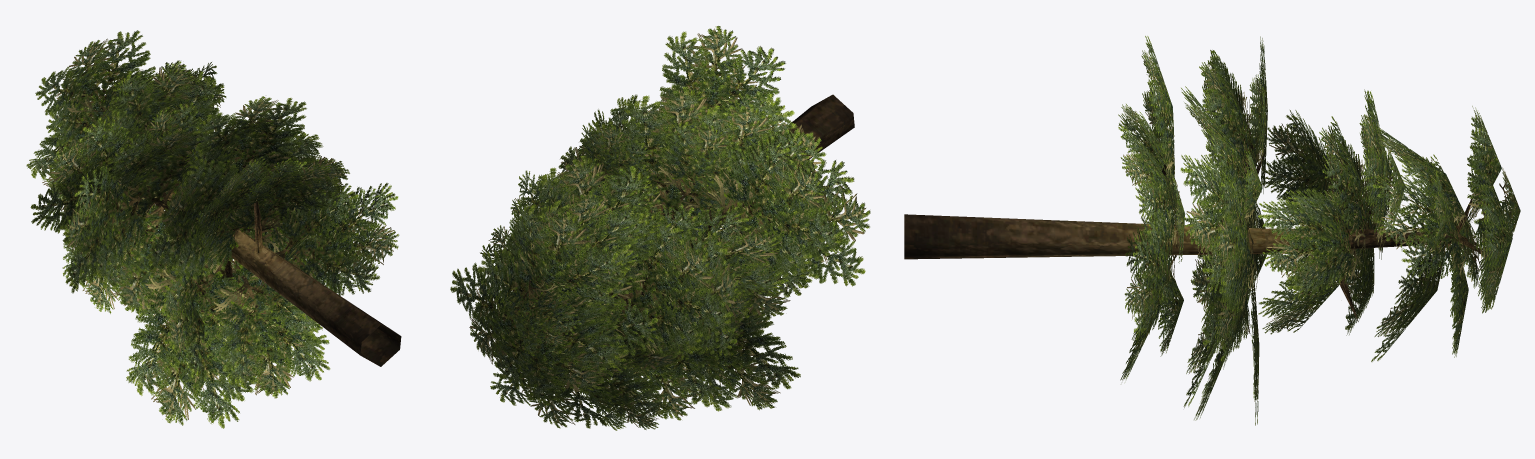
Rendered from cedar_atlas_1.glb.
3 views of the same model, side by side, from view 1: azimuth 30°, elevation 25°; view 2: azimuth 150°, elevation 25°; view 3: azimuth 270°, elevation 25° (orthographic). The views are drawn at different scales.
Bounding box in the file's own units: 22.67 × 23.59 × 34.78.
1 material, 1 textured.
